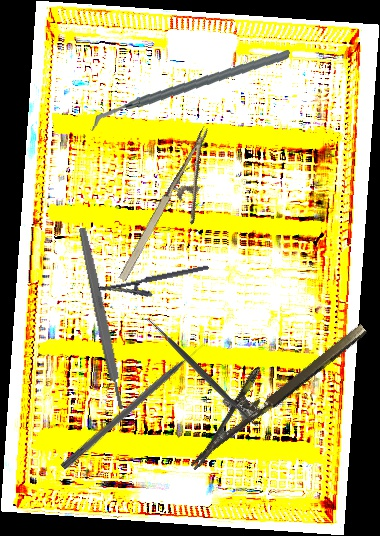Chopper: (90, 32, 290, 148)
Needle Holder: (168, 300, 369, 471), (114, 125, 239, 297), (98, 264, 212, 307)
Pusher: (59, 340, 210, 472)
Scalpel Handle: (76, 226, 127, 411)
Spatula Surgical: (138, 309, 263, 434)
